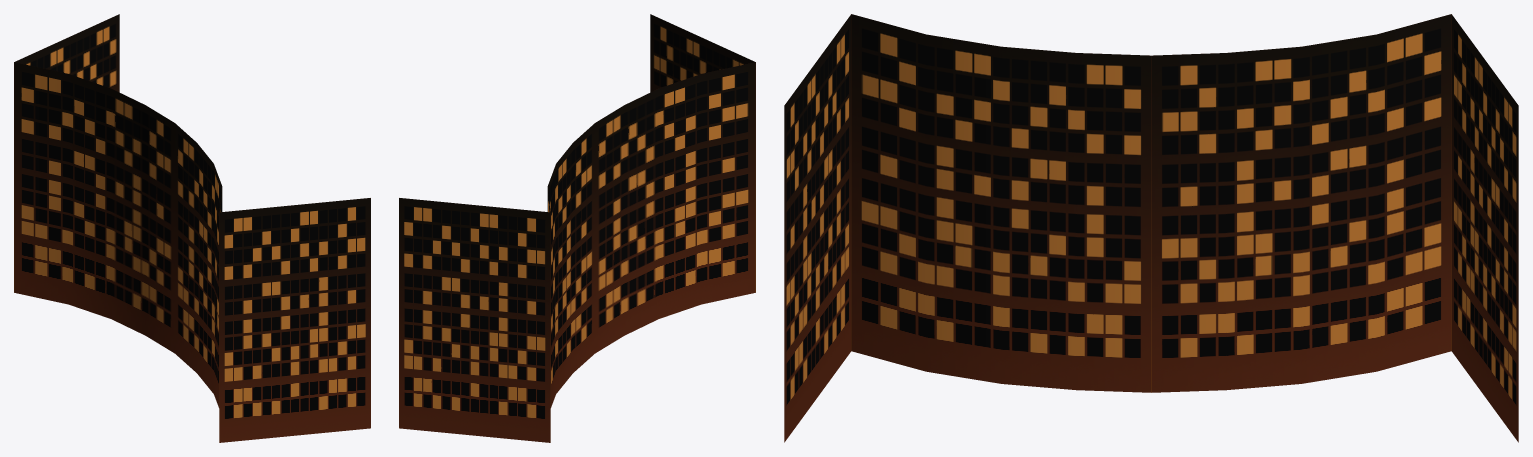
File: Elvis_Building_03.FBX
3 views of the same model, side by side, from view 1: azimuth 30°, elevation 25°; view 2: azimuth 150°, elevation 25°; view 3: azimuth 270°, elevation 25° (orthographic). The views are drawn at different scales.
Parts seen in each view (by area): view 1: Vegas_Building_03; view 2: Vegas_Building_03; view 3: Vegas_Building_03.
Part boxes in pixels (x1,y1,x2,y2): Vegas_Building_03: (14, 14, 370, 442); Vegas_Building_03: (399, 14, 755, 442); Vegas_Building_03: (784, 14, 1518, 442).
Bounding box in the file's own units: 13.28 × 44.94 × 22.77.
